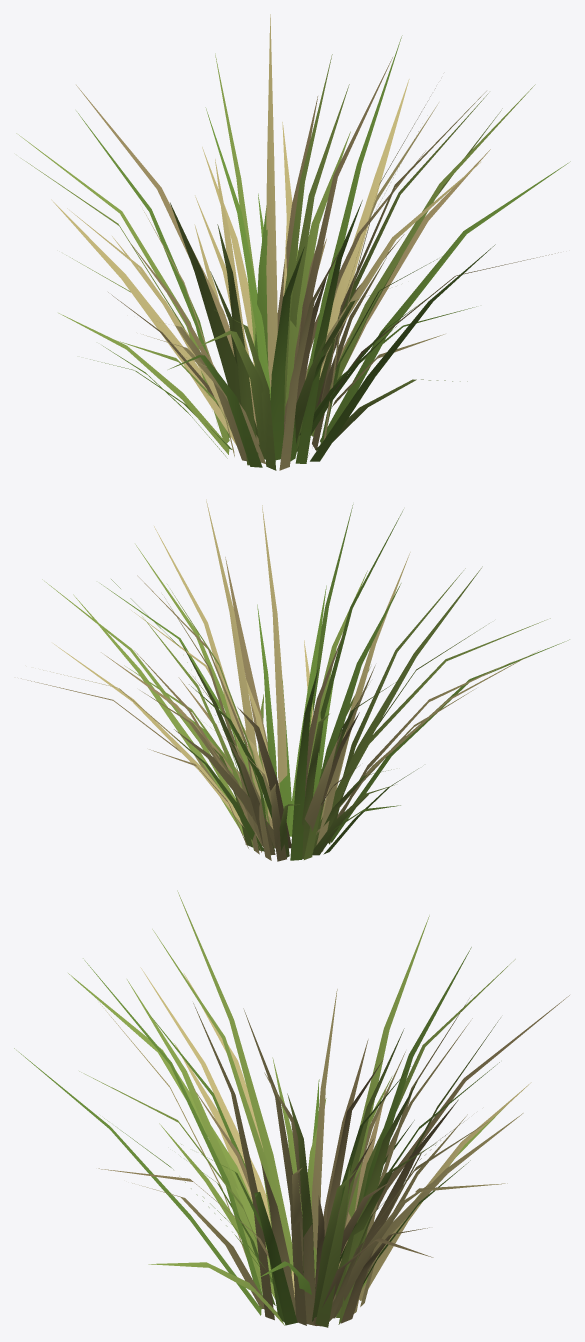
The picture shows the model from 3 angles, top to bottom: view 1: azimuth 30°, elevation 25°; view 2: azimuth 150°, elevation 25°; view 3: azimuth 270°, elevation 25°; orthographic projection. The views are drawn at different scales.
Visible parts, largest first — view 1: foliage; view 2: foliage; view 3: foliage.
Part boxes in pixels (<box>): foliage: <box>16,14,570,470</box>; foliage: <box>21,499,569,861</box>; foliage: <box>14,890,569,1327</box>.
Size of the model in its own units: 0.9839 by 0.6806 by 0.9378.
Materials: 1 (1 with a texture image).
